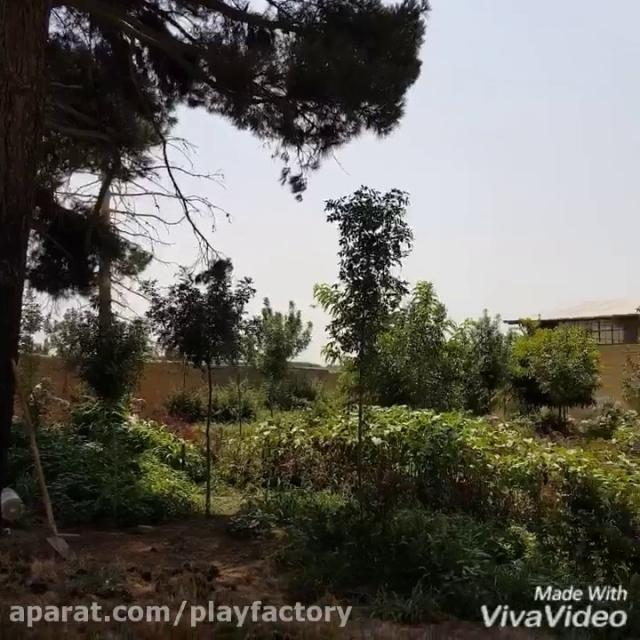drone: (306, 300, 317, 310)
